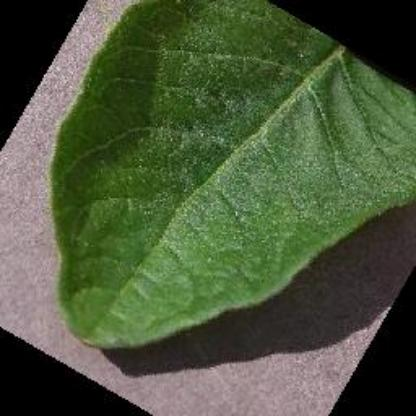Healthy-plant: (44, 4, 416, 346)
